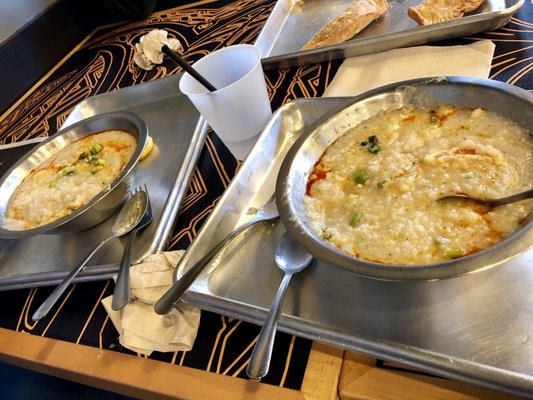salad: (153, 103, 306, 318), (30, 189, 151, 327), (248, 232, 314, 381), (110, 189, 151, 312), (161, 40, 216, 92)
sushi: (274, 82, 533, 285), (1, 112, 150, 238)
